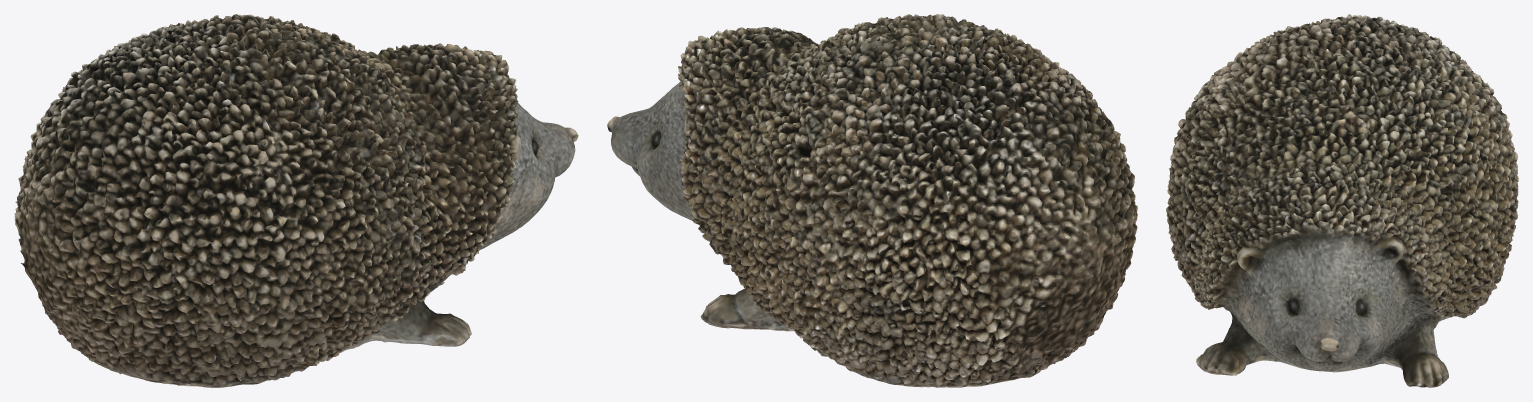
The model's file is hedgehog.glb.
3 views of the same model, side by side, from view 1: azimuth 30°, elevation 25°; view 2: azimuth 150°, elevation 25°; view 3: azimuth 270°, elevation 25° (orthographic). The views are drawn at different scales.
Visible parts, largest first — view 1: Object_4, Object_3, Object_2; view 2: Object_2, Object_3, Object_4; view 3: Object_2, Object_4, Object_3.
Part boxes in pixels (x1,y1,x2,y2): Object_4: [14, 29, 578, 374]; Object_3: [25, 14, 319, 387]; Object_2: [16, 18, 578, 386]; Object_2: [607, 14, 1135, 387]; Object_3: [722, 17, 1135, 387]; Object_4: [607, 14, 1137, 387]; Object_2: [1166, 41, 1518, 387]; Object_4: [1166, 70, 1492, 365]; Object_3: [1178, 14, 1510, 327].
Size of the model in its own units: 2.66 by 1.46 by 1.71.
1 material, 1 textured.
